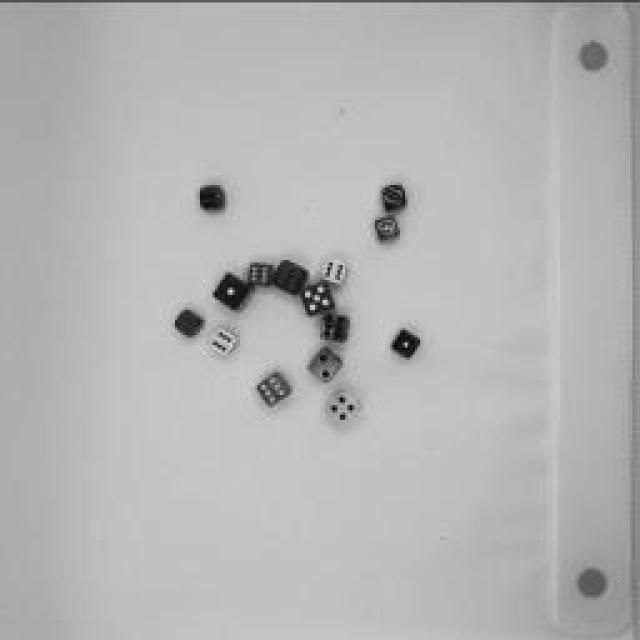dice_1: (386, 319, 434, 366), (211, 268, 259, 312), (369, 210, 409, 245)
dice_2: (304, 344, 351, 384)
dice_3: (375, 166, 410, 212)
dice_4: (324, 386, 366, 426)
dice_5: (295, 276, 340, 316)
dice_6: (265, 247, 310, 295), (210, 324, 252, 366), (318, 308, 358, 348), (251, 369, 294, 406), (171, 302, 211, 340), (195, 180, 230, 215), (318, 255, 352, 287), (245, 256, 275, 292)
